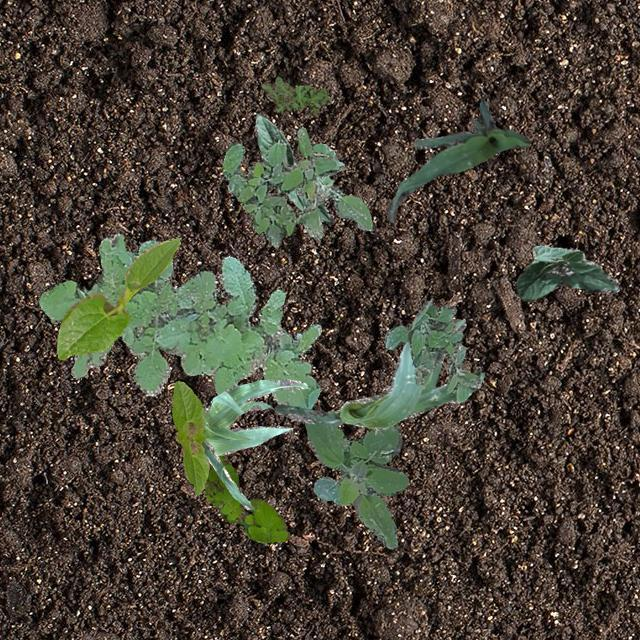crop: (274, 298, 482, 430), (386, 98, 528, 222), (56, 236, 180, 358), (201, 378, 307, 508), (255, 112, 332, 224), (514, 243, 618, 300), (170, 379, 208, 494)
weed: (37, 232, 320, 408), (222, 126, 338, 247), (304, 421, 408, 548), (384, 304, 481, 392), (204, 454, 288, 542), (296, 142, 372, 238), (262, 76, 331, 116)
